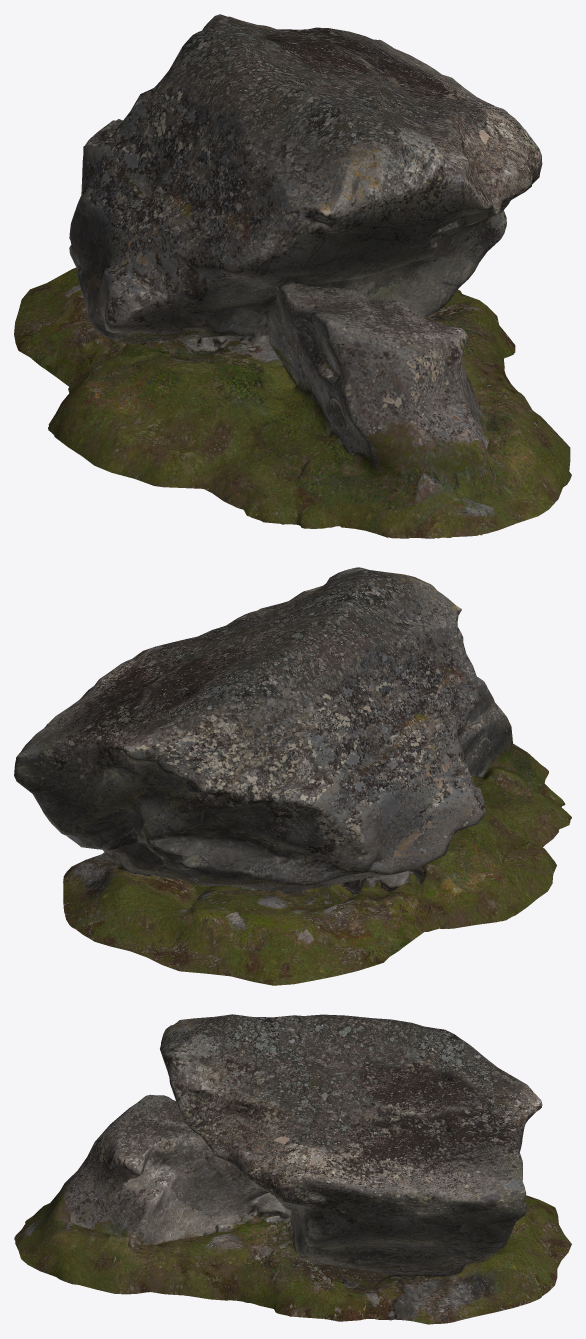
Rendered from stone01.fbx.
3 renders of one model, top to bottom at view 1: azimuth 30°, elevation 25°; view 2: azimuth 150°, elevation 25°; view 3: azimuth 270°, elevation 25°, orthographic. The views are drawn at different scales.
Visible parts, largest first — view 1: Aset_nature_rock_L_vi2gecbmw_LOD0; view 2: Aset_nature_rock_L_vi2gecbmw_LOD0; view 3: Aset_nature_rock_L_vi2gecbmw_LOD0.
Part boxes in pixels (bbox=[...]): Aset_nature_rock_L_vi2gecbmw_LOD0: bbox=[14, 14, 571, 538]; Aset_nature_rock_L_vi2gecbmw_LOD0: bbox=[14, 567, 571, 985]; Aset_nature_rock_L_vi2gecbmw_LOD0: bbox=[14, 1014, 571, 1324].
Bounding box in the file's own units: 388 × 239 × 527.
